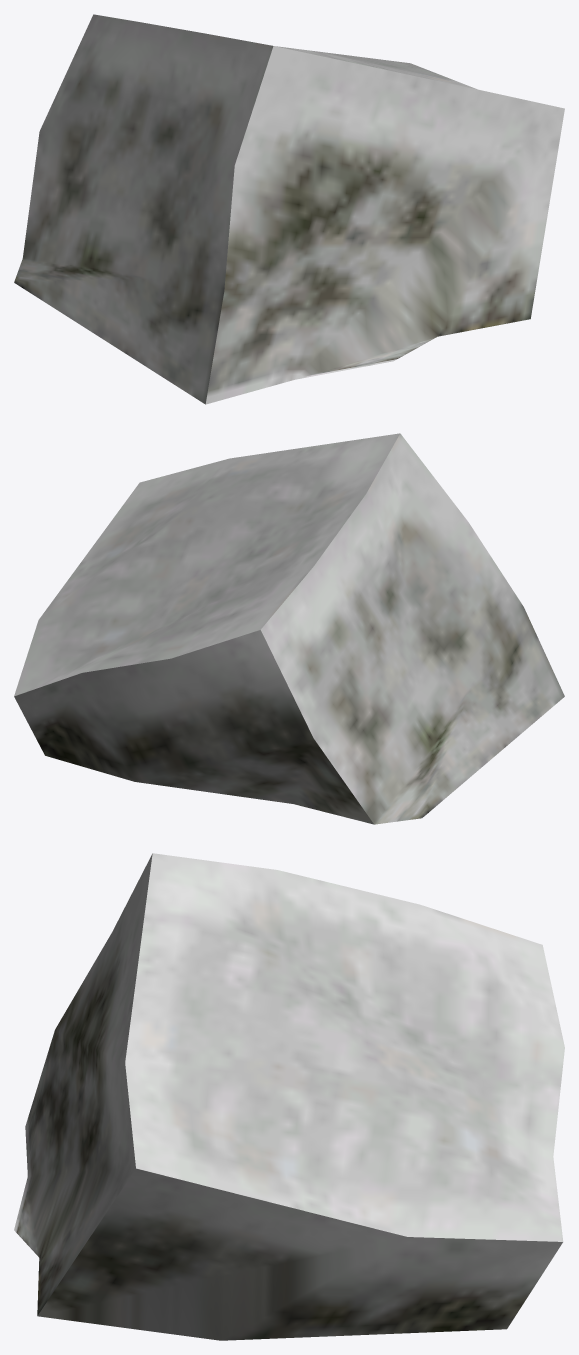
File: ob-bigstone03_lod_01.fbx
3 views of the same model, one above another, from view 1: azimuth 30°, elevation 25°; view 2: azimuth 150°, elevation 25°; view 3: azimuth 270°, elevation 25° (orthographic). The views are drawn at different scales.
Parts seen in each view (by area): view 1: ob-bigstone03; view 2: ob-bigstone03; view 3: ob-bigstone03.
Boxes of the visible parts, left/top/right/bottom form: ob-bigstone03: left=14, top=14, right=564, bottom=404; ob-bigstone03: left=14, top=433, right=564, bottom=824; ob-bigstone03: left=14, top=853, right=564, bottom=1340.
Size of the model in its own units: 4.16 by 2.7 by 3.93.
